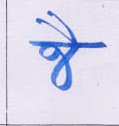e_matra: (34, 10, 81, 42)
